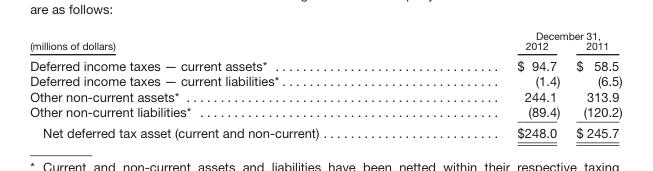table: (29, 28, 621, 140)
table column: (29, 28, 417, 140), (417, 28, 567, 140), (567, 28, 621, 140)
table column header: (29, 28, 621, 54)
table row: (29, 54, 621, 73), (29, 104, 621, 122), (29, 122, 621, 140), (29, 88, 621, 104), (29, 73, 621, 88), (29, 40, 621, 54), (29, 28, 621, 40)
table spanning cell: (29, 28, 417, 54), (417, 28, 621, 40)
